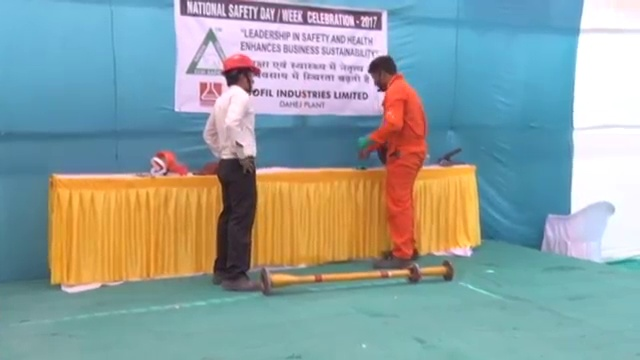helmet: (218, 51, 264, 78)
helmet_off: (366, 55, 399, 94)
helmet_on: (222, 53, 263, 91)
person: (203, 53, 265, 288), (363, 55, 430, 268)
